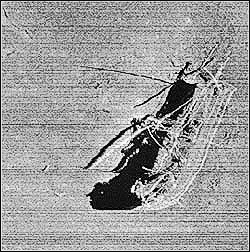ship: (127, 59, 236, 207)
